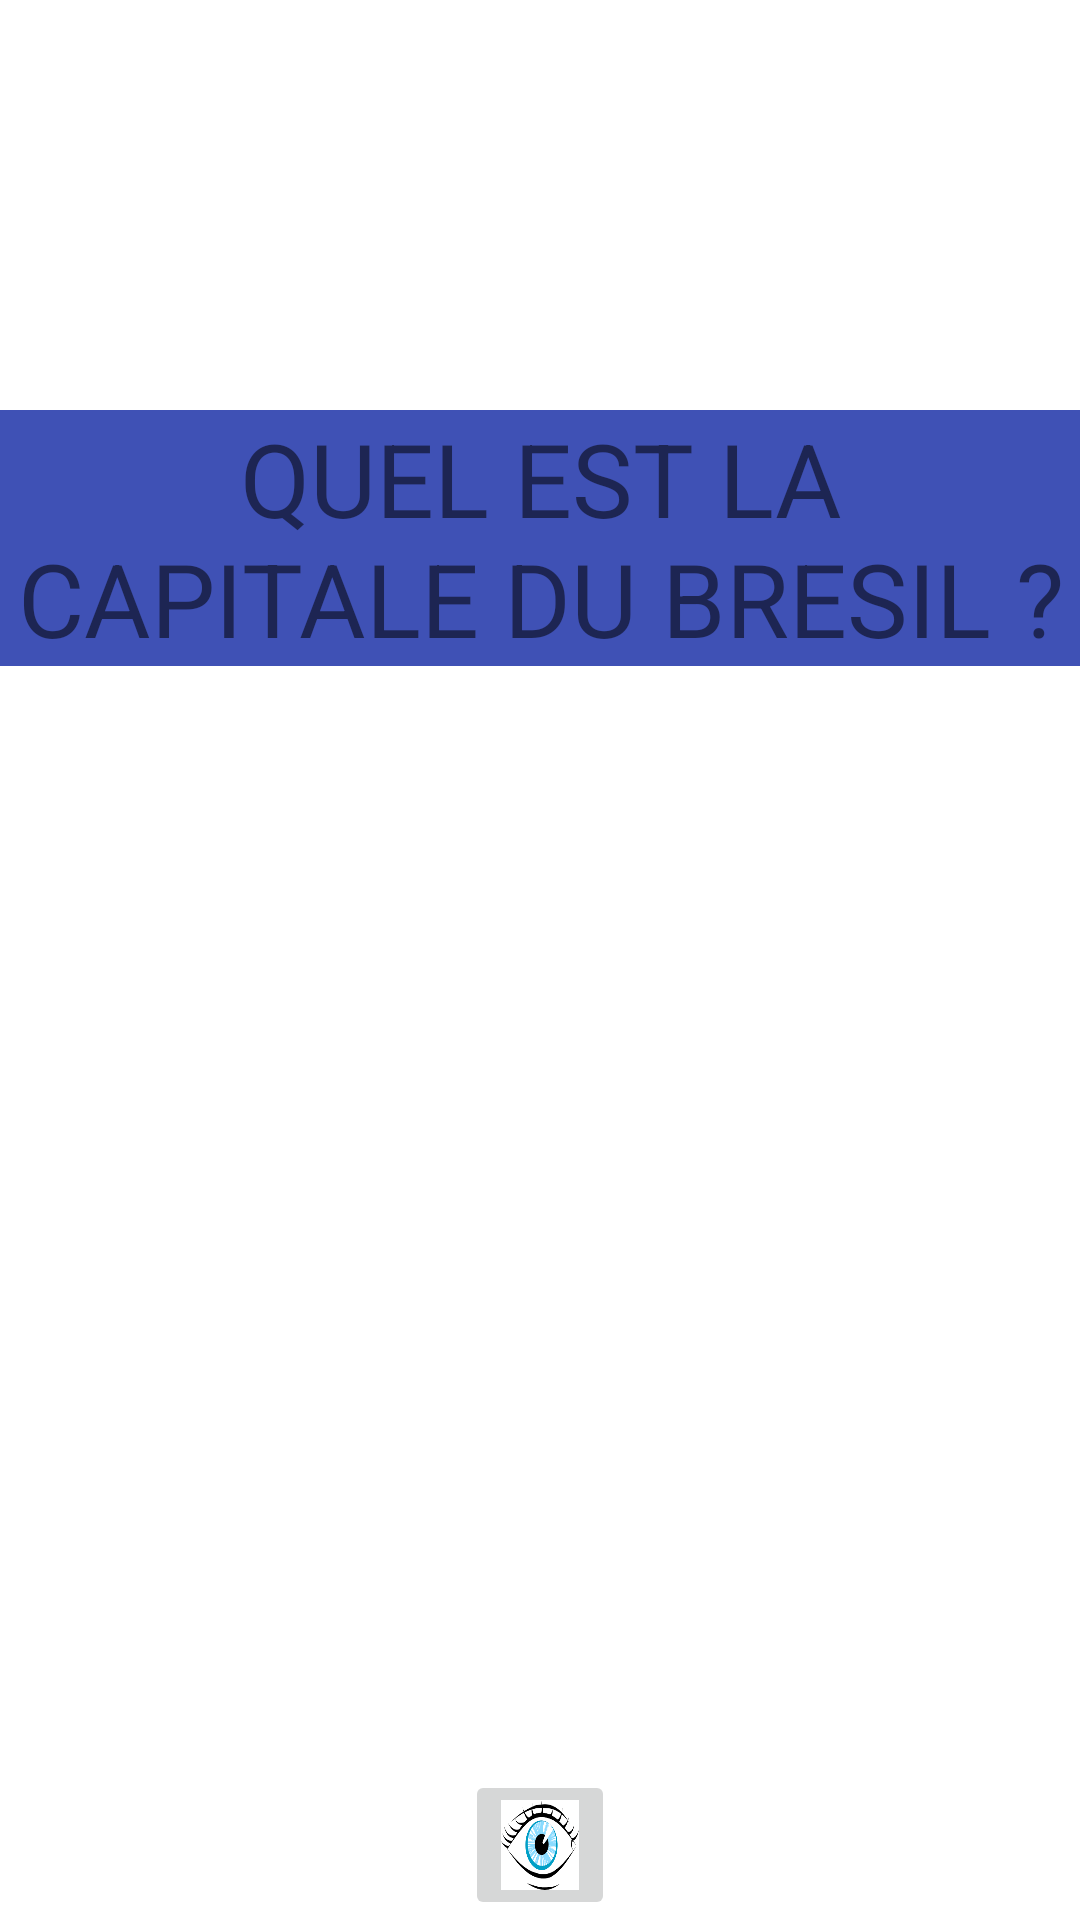

Icon click points for this 1080w x 1920h phone screenshot, format (x=x, y=y):
vue: (x=540, y=1845)
